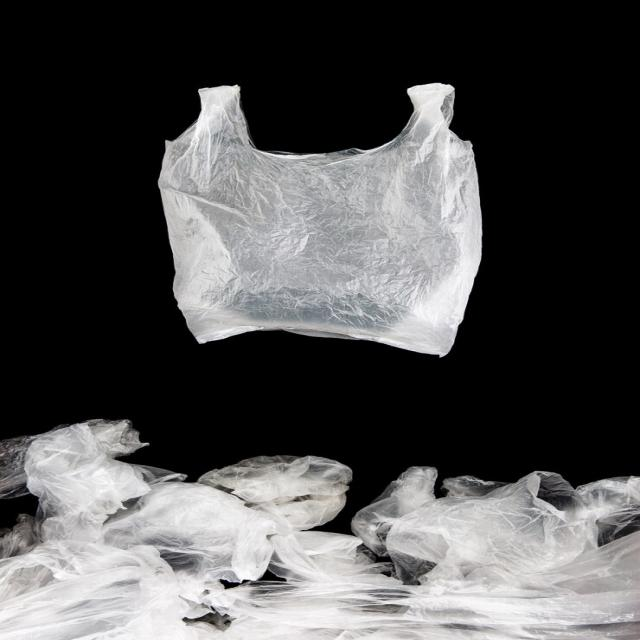plastic_bag: (143, 64, 524, 346)
